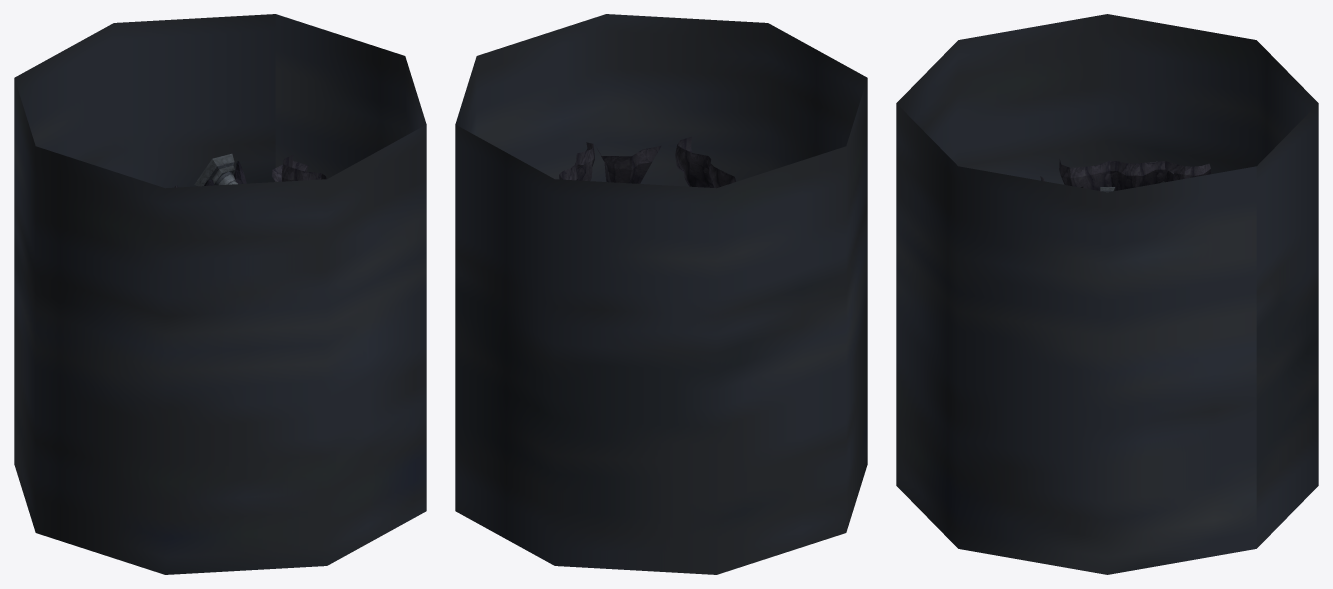
Rendered from Scene_bossta.fbx.
The picture shows the model from 3 angles, left to right: view 1: azimuth 30°, elevation 25°; view 2: azimuth 150°, elevation 25°; view 3: azimuth 270°, elevation 25°; orthographic projection.
Visible parts, largest first — view 1: Scene_bossta_a1, Scene_diyu_b1; view 2: Scene_bossta_a1, Scene_diyu_b1; view 3: Scene_bossta_a1, Scene_diyu_b1.
Part boxes in pixels (x1,y1,x2,y2): Scene_bossta_a1: [14, 14, 426, 574]; Scene_diyu_b1: [174, 155, 326, 187]; Scene_bossta_a1: [455, 14, 867, 574]; Scene_diyu_b1: [559, 136, 736, 188]; Scene_bossta_a1: [896, 14, 1318, 574]; Scene_diyu_b1: [1040, 159, 1210, 190].
Size of the model in its own units: 10417 by 10417 by 10417.
